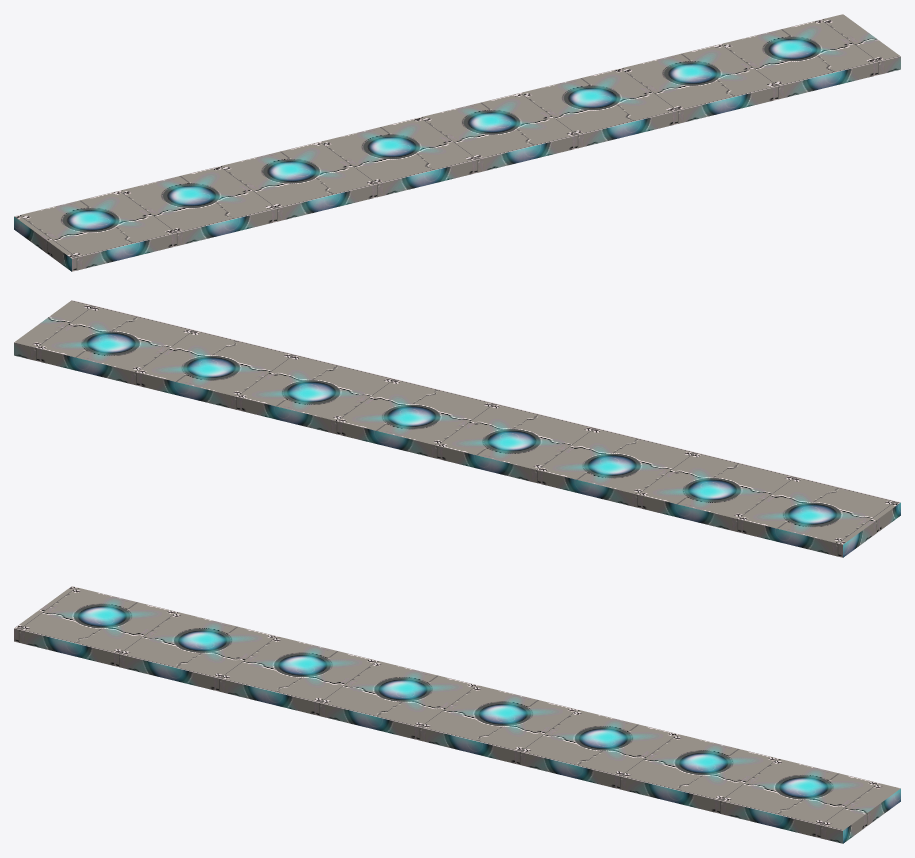
Rendered from Bridge2.glb.
3 views of the same model, one above another, from view 1: azimuth 30°, elevation 25°; view 2: azimuth 150°, elevation 25°; view 3: azimuth 330°, elevation 25° (orthographic).
Visible parts, largest first — view 1: Bridge2; view 2: Bridge2; view 3: Bridge2.
Part boxes in pixels (bbox=[...]): Bridge2: bbox=[14, 14, 900, 271]; Bridge2: bbox=[14, 300, 900, 557]; Bridge2: bbox=[14, 586, 900, 843].
Bounding box in the file's own units: 530 × 8 × 64.
Materials: 1 (1 with a texture image).
